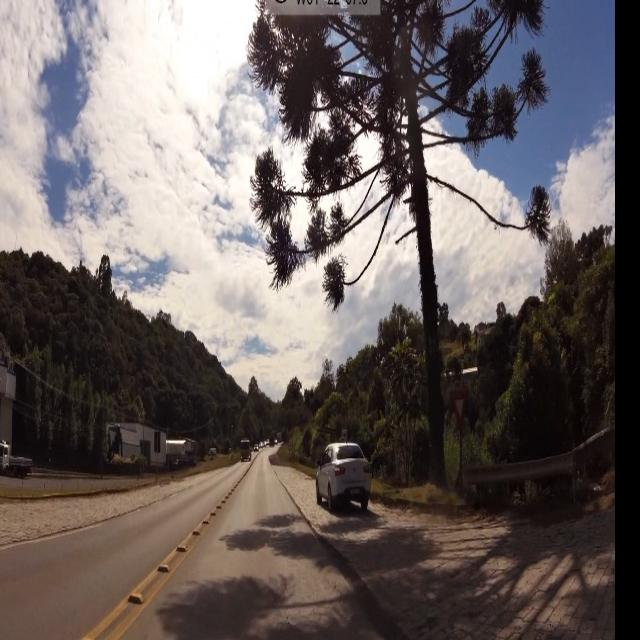R-2: (450, 384, 470, 434)
